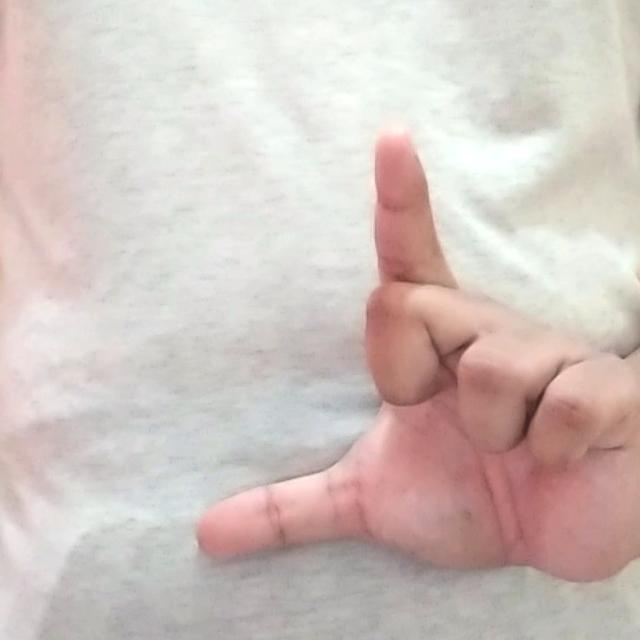L: (185, 119, 638, 593)
